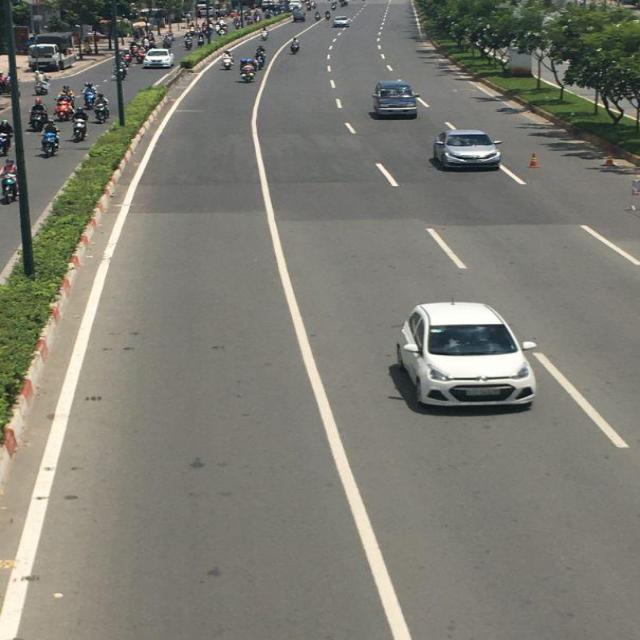car: (391, 301, 536, 412), (432, 130, 502, 172), (371, 80, 420, 119), (144, 49, 174, 69), (334, 18, 349, 28)
motorcycle: (0, 161, 20, 207), (40, 130, 61, 157), (93, 96, 108, 122)
truck: (30, 35, 75, 75)
